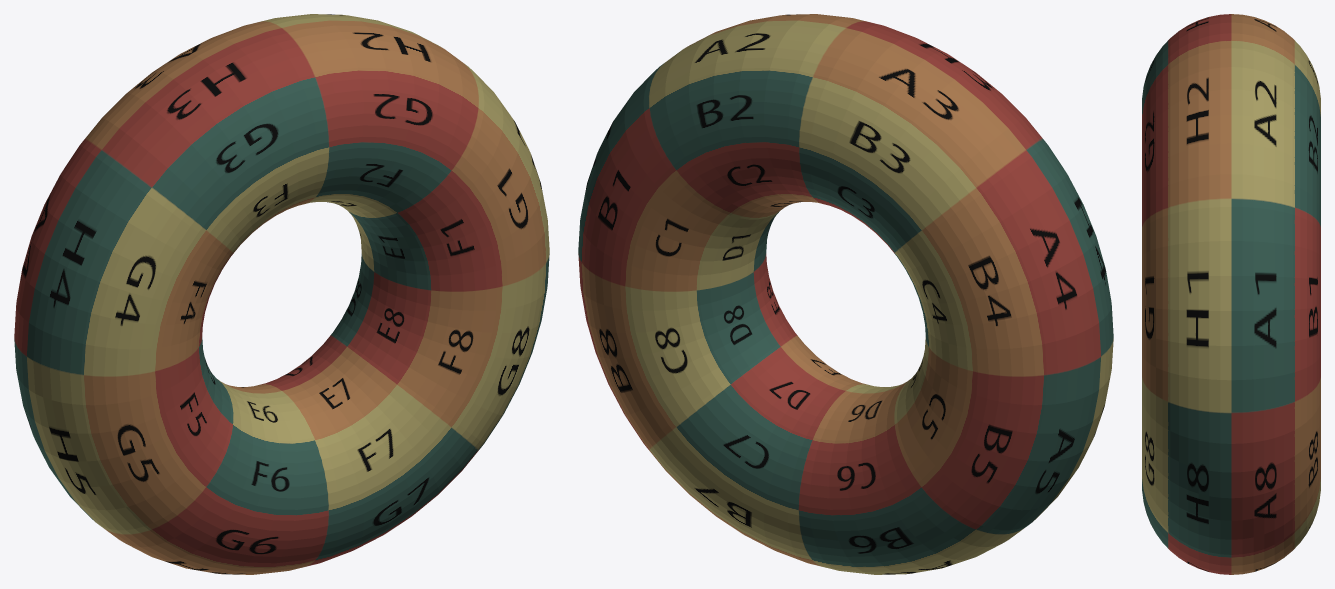
File: texture_torus_R17_r30.glb
3 views of the same model, side by side, from view 1: azimuth 30°, elevation 25°; view 2: azimuth 150°, elevation 25°; view 3: azimuth 270°, elevation 25° (orthographic). The views are drawn at different scales.
Visible parts, largest first — view 1: world; view 2: world; view 3: world.
Part boxes in pixels (box(x1,y1,x2,y2)): world: box(14, 14, 549, 574); world: box(578, 14, 1113, 574); world: box(1142, 14, 1320, 574).
Bounding box in the file's own units: 31.33 × 31.27 × 9.98.
Materials: 1 (1 with a texture image).
